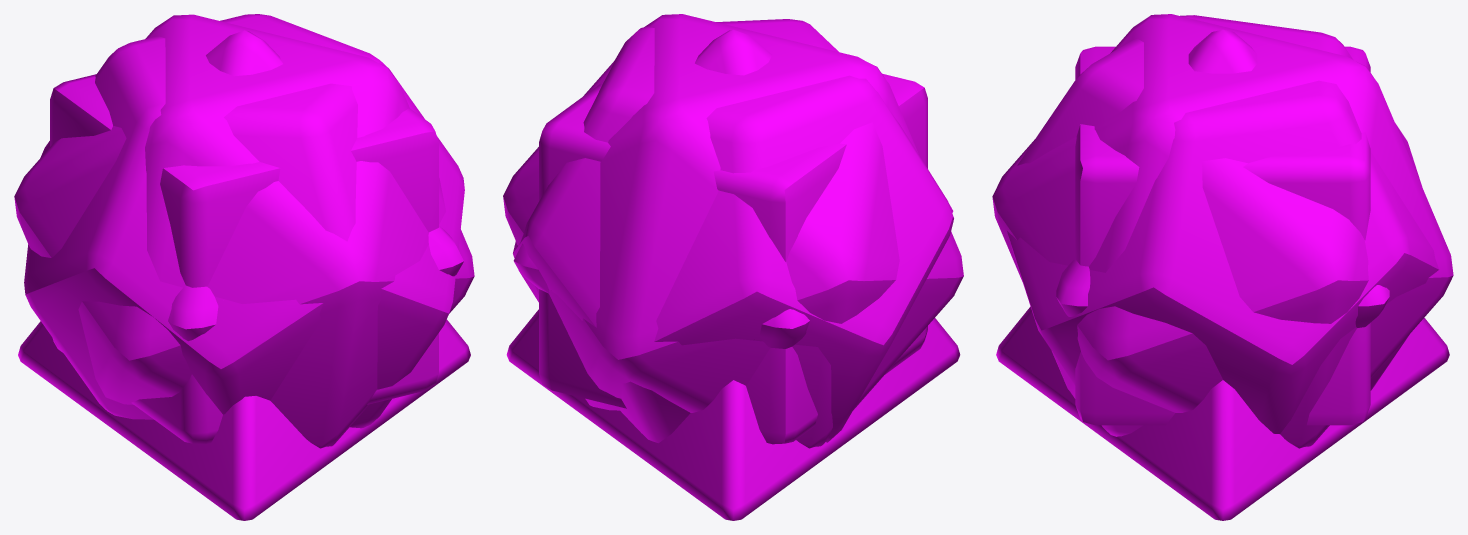
File: Dice_mid.FBX
3 renders of one model, left to right at view 1: azimuth 30°, elevation 25°; view 2: azimuth 150°, elevation 25°; view 3: azimuth 270°, elevation 25°, orthographic.
Parts seen in each view (by area): view 1: mid_20_sides, mid_12_sides, mid_6_sides, mid_4_sides, mid_8_sides; view 2: mid_20_sides, mid_12_sides, mid_6_sides, mid_4_sides, mid_8_sides; view 3: mid_20_sides, mid_12_sides, mid_4_sides, mid_6_sides, mid_8_sides.
Part boxes in pixels (box(x1,y1,x2,y2)): mid_20_sides: box(14, 14, 474, 448); mid_12_sides: box(24, 14, 464, 428); mid_6_sides: box(50, 74, 438, 444); mid_4_sides: box(18, 319, 470, 520); mid_8_sides: box(168, 30, 463, 341); mid_20_sides: box(503, 14, 963, 448); mid_12_sides: box(513, 19, 953, 443); mid_6_sides: box(539, 73, 927, 444); mid_4_sides: box(506, 309, 960, 520); mid_8_sides: box(513, 29, 953, 348); mid_20_sides: box(992, 14, 1453, 448); mid_12_sides: box(1007, 15, 1439, 436); mid_4_sides: box(996, 306, 1449, 520); mid_6_sides: box(1075, 46, 1370, 425); mid_8_sides: box(1056, 29, 1389, 327).
Size of the model in its own units: 0.0242 by 0.0231 by 0.0234.
